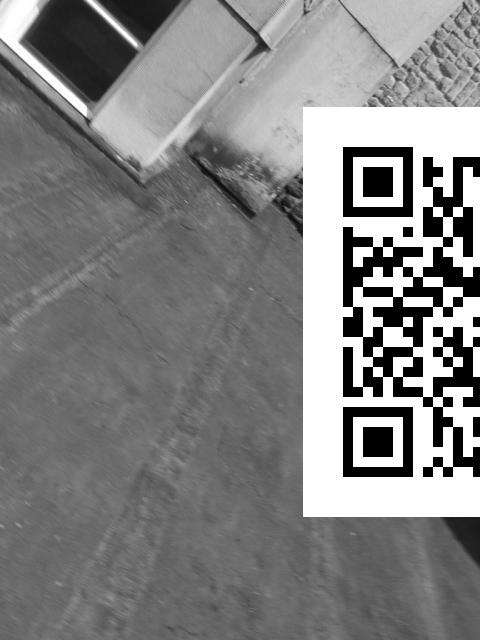qr_code: (318, 124, 480, 491)
